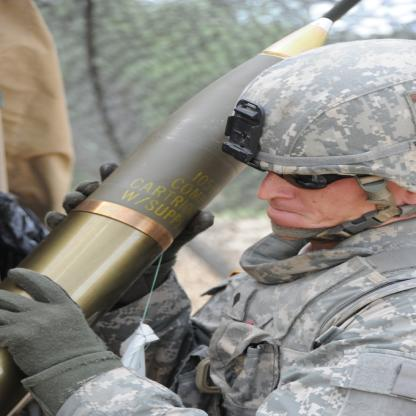Helmet: (240, 58, 407, 175)
